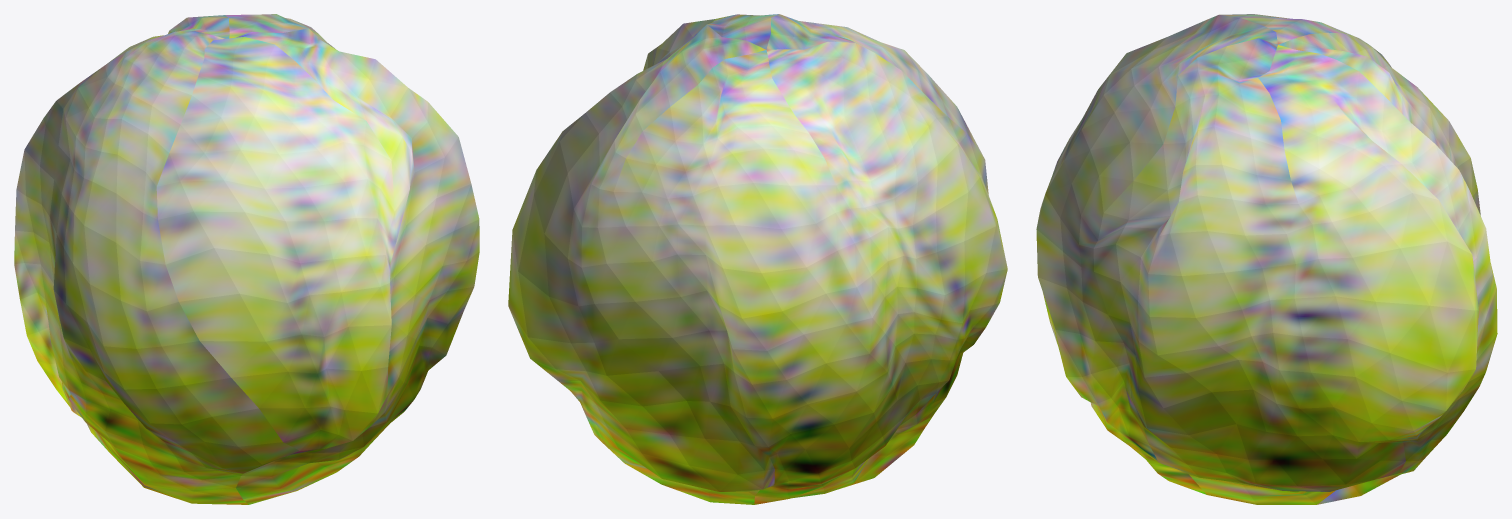
3 renders of one model, left to right at view 1: azimuth 30°, elevation 25°; view 2: azimuth 150°, elevation 25°; view 3: azimuth 270°, elevation 25°, orthographic.
Parts seen in each view (by area): view 1: pMesh1; view 2: pMesh1; view 3: pMesh1.
Part boxes in pixels (x1=…): pMesh1: x1=14, y1=14, x2=479, y2=504; pMesh1: x1=508, y1=14, x2=1007, y2=504; pMesh1: x1=1036, y1=14, x2=1497, y2=504.
Size of the model in its own units: 2.14 by 2.4 by 2.24.
1 material, 1 textured.
